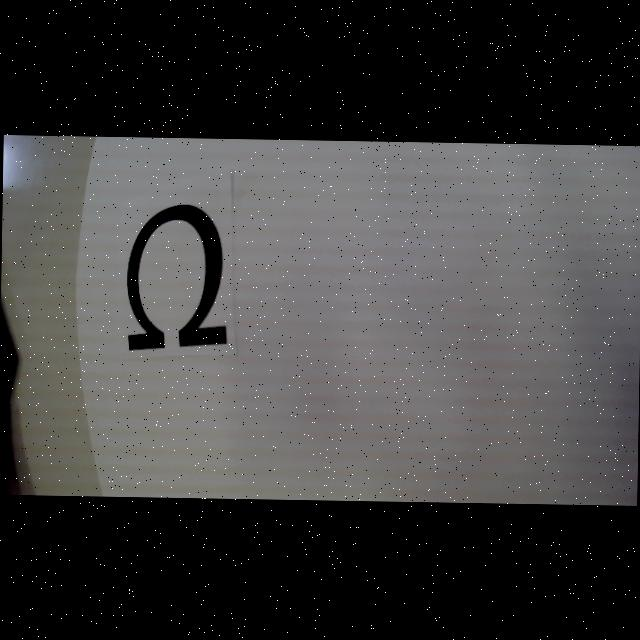OMEGA: (124, 203, 228, 352)
